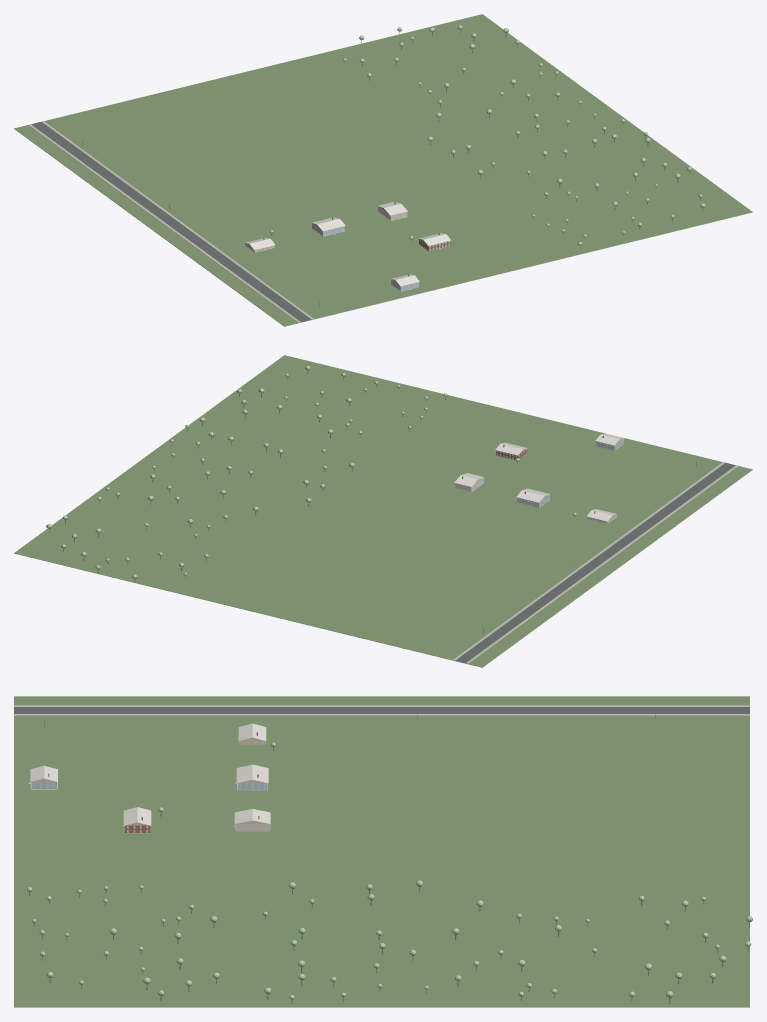
Rendered from chunk_2_1_high.glb.
3 views of the same model, one above another, from view 1: azimuth 30°, elevation 25°; view 2: azimuth 150°, elevation 25°; view 3: azimuth 270°, elevation 25° (orthographic). The views are drawn at different scales.
Parts seen in each view (by area): view 1: city_forest_floor, city_world_asphalt, city_world_sidewalk, city_roof_tile, city_foliage, city_grass, city_curb; view 2: city_forest_floor, city_world_asphalt, city_world_sidewalk, city_foliage, city_roof_tile, city_grass, city_curb; view 3: city_forest_floor, city_world_asphalt, city_world_sidewalk, city_roof_tile, city_foliage, city_curb, city_foliage_dark, city_grass, city_bark.
Part boxes in pixels (x1=…): city_forest_floor: x1=14, y1=14, x2=752, y2=326; city_world_asphalt: x1=31, y1=122, x2=311, y2=322; city_world_sidewalk: x1=28, y1=121, x2=440, y2=322; city_roof_tile: x1=244, y1=201, x2=451, y2=286; city_foliage: x1=270, y1=25, x2=705, y2=245; city_grass: x1=14, y1=129, x2=752, y2=326; city_curb: x1=31, y1=121, x2=311, y2=321; city_forest_floor: x1=14, y1=355, x2=752, y2=667; city_world_asphalt: x1=455, y1=463, x2=735, y2=663; city_world_sidewalk: x1=453, y1=462, x2=738, y2=663; city_foliage: x1=46, y1=366, x2=576, y2=578; city_roof_tile: x1=454, y1=433, x2=624, y2=521; city_grass: x1=14, y1=470, x2=752, y2=667; city_curb: x1=455, y1=462, x2=735, y2=662; city_forest_floor: x1=14, y1=696, x2=749, y2=1007; city_world_asphalt: x1=14, y1=707, x2=749, y2=713; city_world_sidewalk: x1=14, y1=705, x2=749, y2=826; city_roof_tile: x1=30, y1=723, x2=270, y2=825; city_foliage: x1=27, y1=742, x2=752, y2=999; city_curb: x1=14, y1=705, x2=749, y2=715; city_foliage_dark: x1=28, y1=744, x2=751, y2=999; city_grass: x1=14, y1=1007, x2=749, y2=1007; city_bark: x1=29, y1=747, x2=749, y2=1003.
Size of the model in its own units: 512 by 10.47 by 514.
